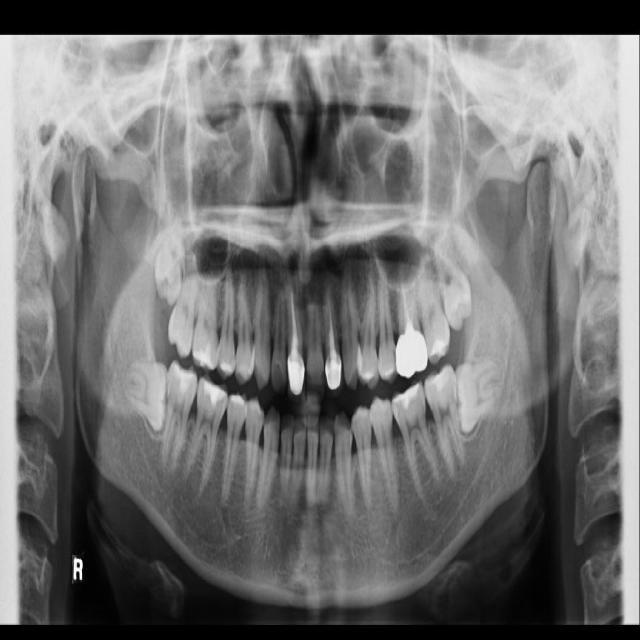3M ESPE Implant: (152, 204, 188, 307)
52: (381, 375, 439, 432), (415, 360, 467, 410), (159, 358, 205, 409), (394, 327, 429, 379), (421, 310, 452, 366), (197, 371, 228, 422), (192, 323, 219, 374), (355, 342, 383, 390), (375, 338, 402, 385), (214, 338, 239, 383), (225, 390, 250, 428), (287, 351, 306, 398), (325, 352, 343, 397)
73: (393, 252, 422, 337), (282, 279, 304, 361), (325, 274, 341, 366), (624, 616, 634, 628)
BioHorizons Implant: (407, 231, 456, 367)
BioLife Implant: (428, 222, 478, 334)
Biomet 3i Implant: (449, 358, 507, 434)
Blue Sky Bio Implant: (419, 360, 478, 482)
Caries: (164, 230, 205, 361)
Implant: (161, 358, 199, 475)
Keystone Dental Implant: (121, 359, 172, 432)
